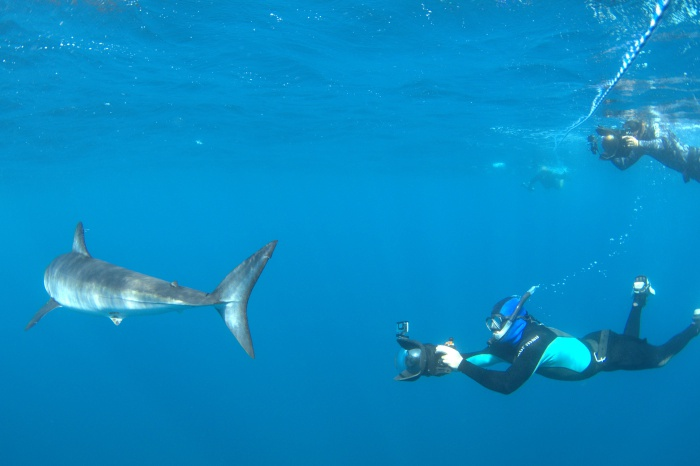Mako: (9, 216, 295, 380)
